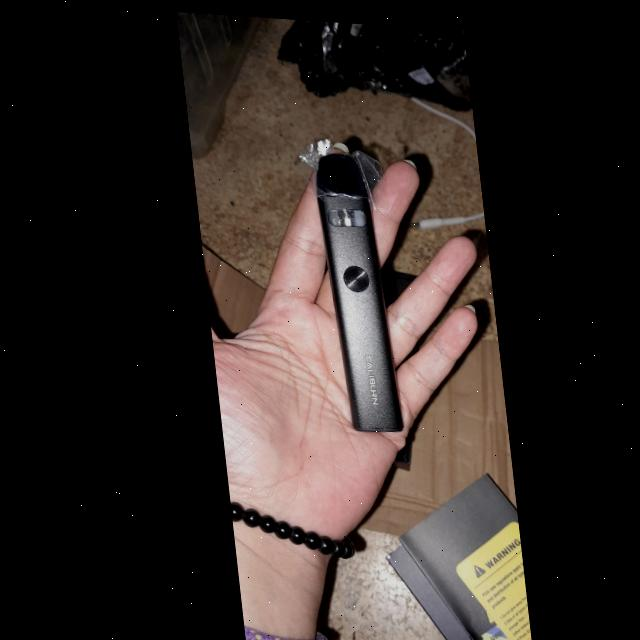vape: (307, 144, 394, 431)
